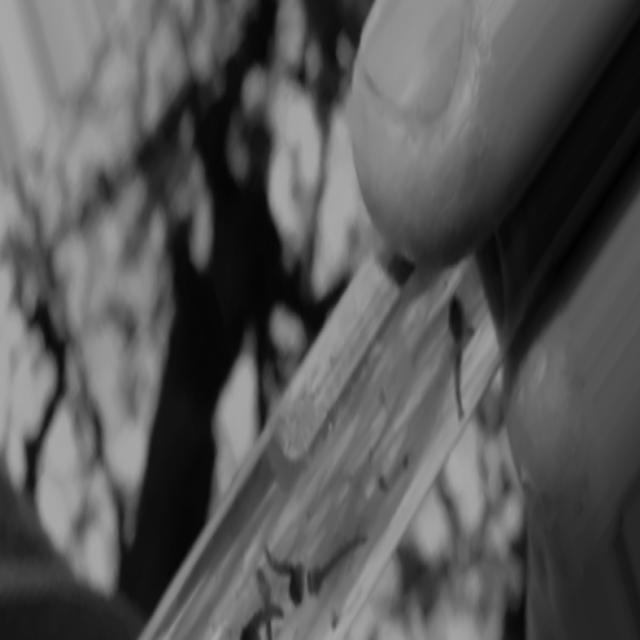larvas: (307, 522, 366, 598), (447, 284, 465, 416), (265, 546, 305, 601), (244, 598, 278, 638), (260, 554, 272, 640)
